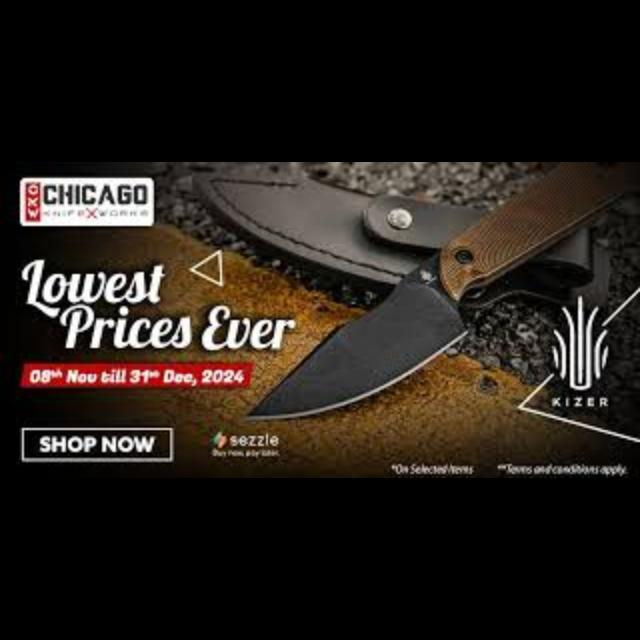Knife: (234, 162, 630, 422)
